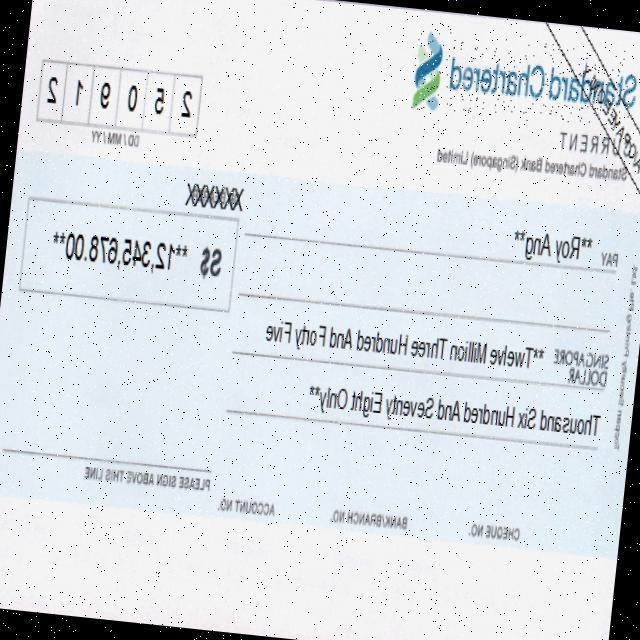Standard Chartered: (410, 29, 640, 132)
